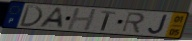A: (37, 8, 64, 30)
D: (18, 4, 44, 28)
H: (66, 8, 99, 31)
J: (147, 14, 169, 35)
R: (121, 12, 147, 34)
T: (101, 10, 117, 32)
